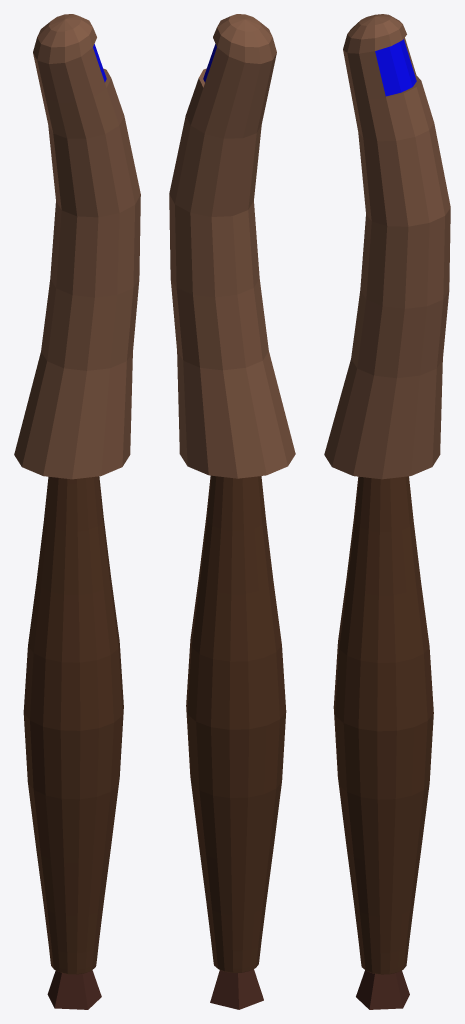
File: Wand 148.glb
3 renders of one model, left to right at view 1: azimuth 30°, elevation 25°; view 2: azimuth 150°, elevation 25°; view 3: azimuth 330°, elevation 25°, orthographic.
Parts seen in each view (by area): view 1: GeneratedWand; view 2: GeneratedWand; view 3: GeneratedWand.
Part boxes in pixels (bbox=[...]): GeneratedWand: bbox=[14, 14, 140, 1009]; GeneratedWand: bbox=[169, 14, 295, 1009]; GeneratedWand: bbox=[324, 14, 450, 1009].
Bounding box in the file's own units: 0.0644 × 0.5334 × 0.0572.
